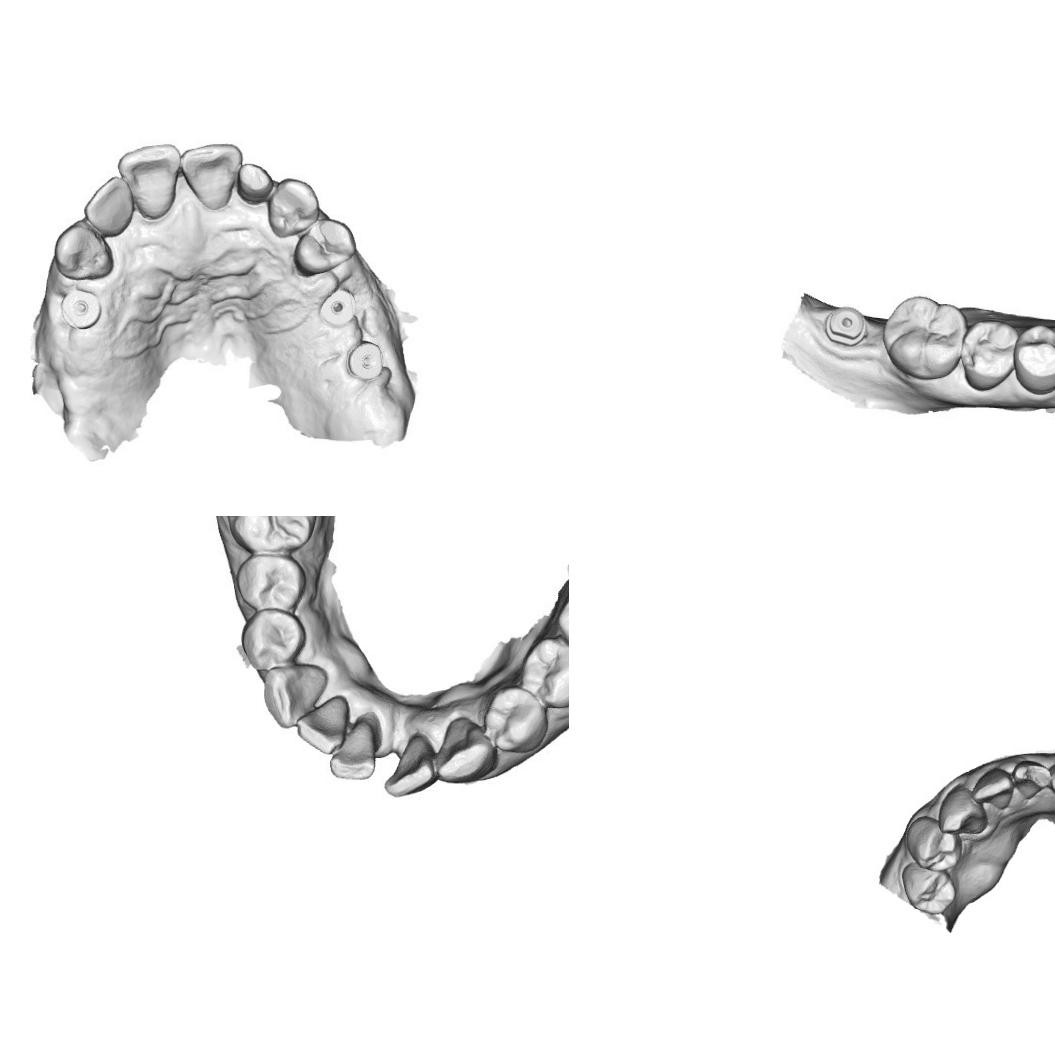canine: (260, 664, 328, 730), (51, 219, 114, 281), (265, 176, 321, 238), (440, 716, 490, 778), (936, 782, 990, 836)
implant: (820, 296, 870, 359), (56, 286, 103, 332), (348, 338, 386, 385), (318, 285, 357, 326)
incisor: (116, 141, 182, 221), (178, 140, 242, 210), (332, 717, 386, 788), (80, 174, 135, 238), (389, 734, 442, 796), (300, 695, 344, 751), (968, 765, 1015, 812), (232, 158, 274, 205), (1010, 758, 1053, 802)
molar: (884, 295, 960, 379), (227, 516, 318, 547)
premolar: (233, 550, 312, 616), (482, 686, 548, 756), (290, 215, 356, 278), (516, 636, 569, 711), (902, 813, 964, 874), (245, 608, 305, 670), (964, 318, 1014, 390), (899, 860, 958, 916), (1013, 323, 1055, 394)
